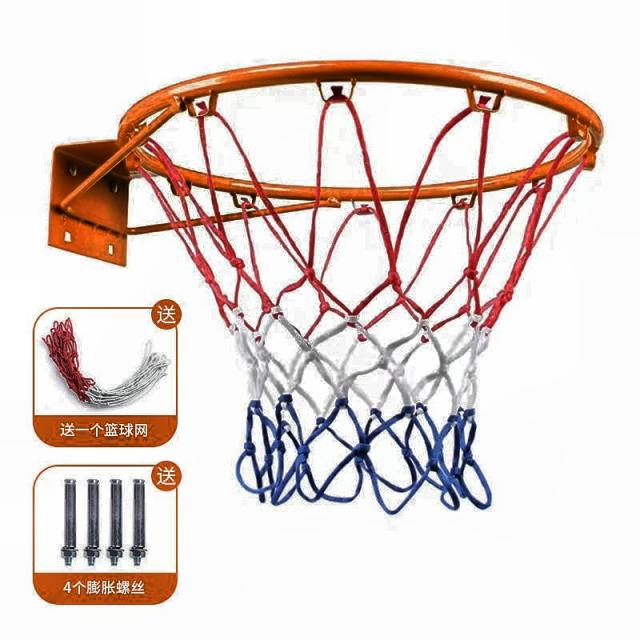rim: (121, 57, 605, 511)
